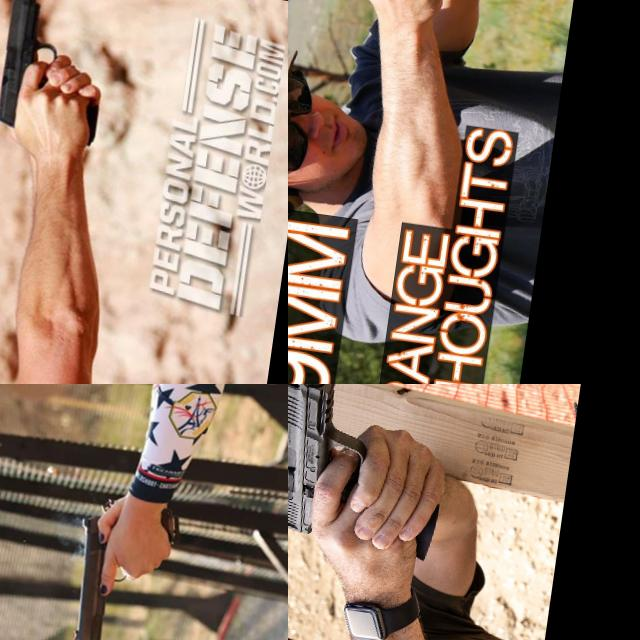handgun: (288, 384, 383, 542), (61, 505, 134, 640), (0, 0, 69, 134), (319, 0, 415, 75)
